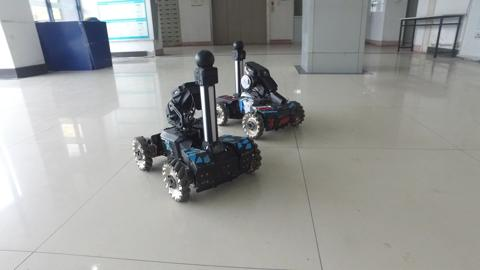chariot: (128, 46, 268, 203), (211, 39, 303, 149)
